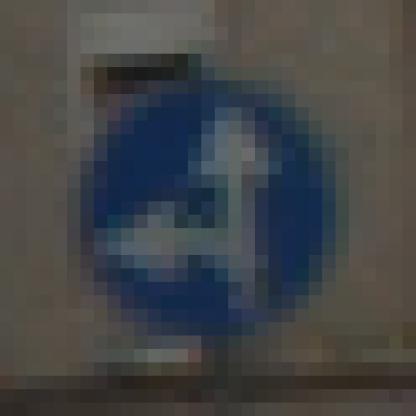Straight or Left: (68, 68, 337, 337)
